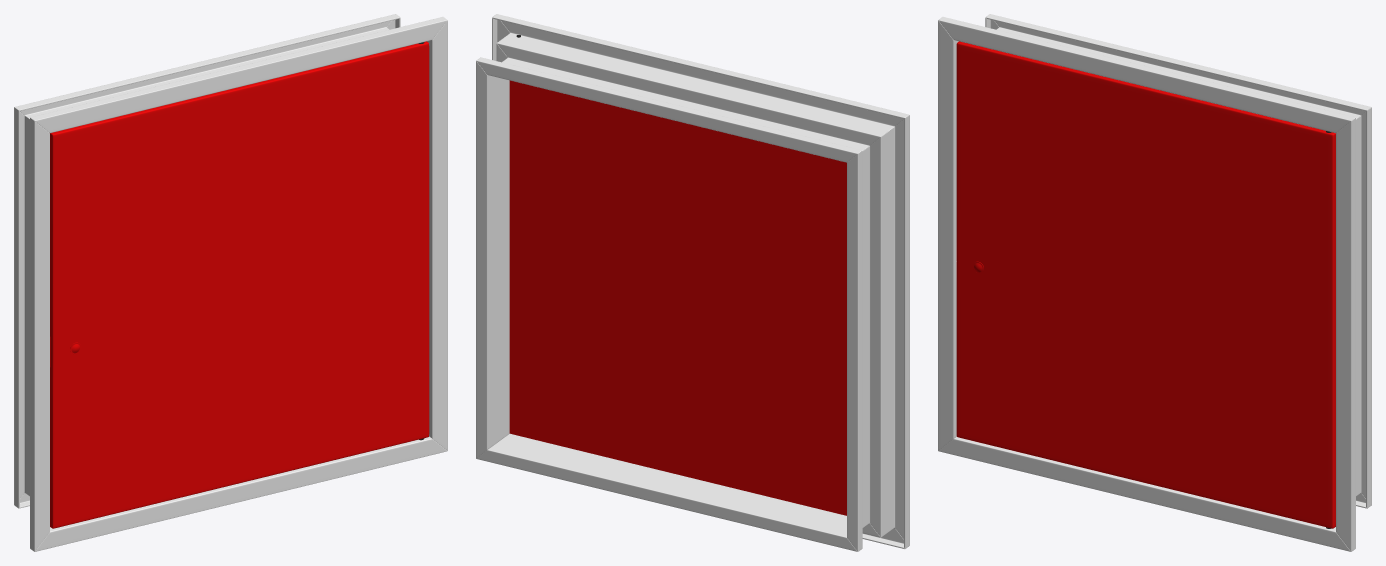
File: Access_door.glb
3 views of the same model, side by side, from view 1: azimuth 30°, elevation 25°; view 2: azimuth 150°, elevation 25°; view 3: azimuth 330°, elevation 25° (orthographic).
Parts seen in each view (by area): view 1: Door_leaf, frame_left, frame_top, frame_right, frame_btm; view 2: Door_leaf, frame_left, frame_top, frame_right, frame_btm; view 3: Door_leaf, frame_right, frame_top, frame_left, frame_btm.
Boxes of the visible parts, <box> form: Door_leaf: <box>50,41,429,528</box>; frame_left: <box>14,107,49,551</box>; frame_top: <box>14,14,447,133</box>; frame_right: <box>386,17,447,450</box>; frame_btm: <box>19,436,447,551</box>; Door_leaf: <box>509,80,846,515</box>; frame_left: <box>847,115,909,551</box>; frame_top: <box>476,14,909,162</box>; frame_right: <box>476,17,509,458</box>; frame_btm: <box>476,433,904,551</box>; Door_leaf: <box>956,41,1335,528</box>; frame_right: <box>1336,107,1371,551</box>; frame_top: <box>938,14,1371,133</box>; frame_left: <box>938,17,998,450</box>; frame_btm: <box>938,436,1366,551</box>.
Bounding box in the file's own units: 0.658 × 0.656 × 0.1029.
